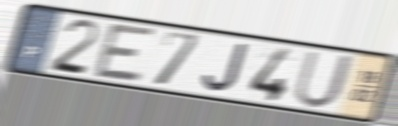2: (48, 18, 101, 78)
4: (246, 44, 294, 103)
7: (153, 29, 202, 88)
E: (91, 21, 160, 86)
J: (201, 41, 251, 94)
U: (291, 49, 357, 111)
